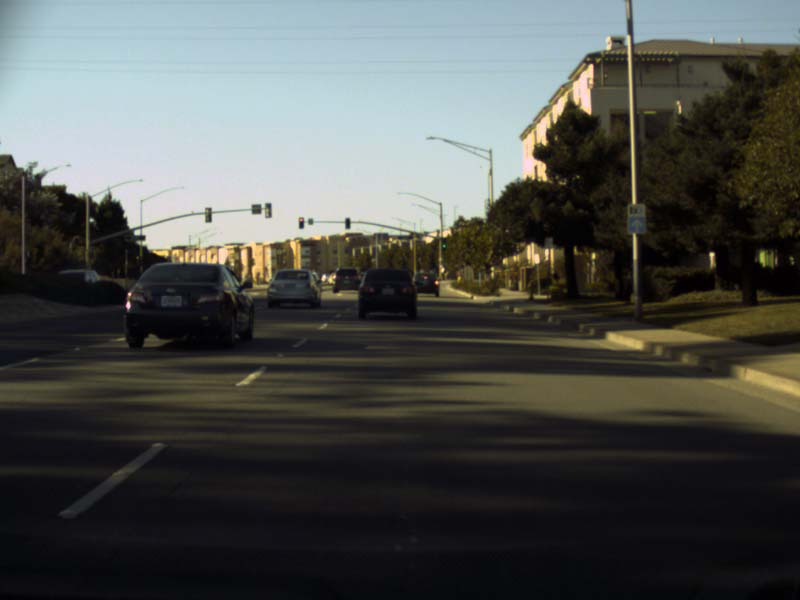Green: (441, 238, 446, 248)
Red: (299, 218, 303, 227)
